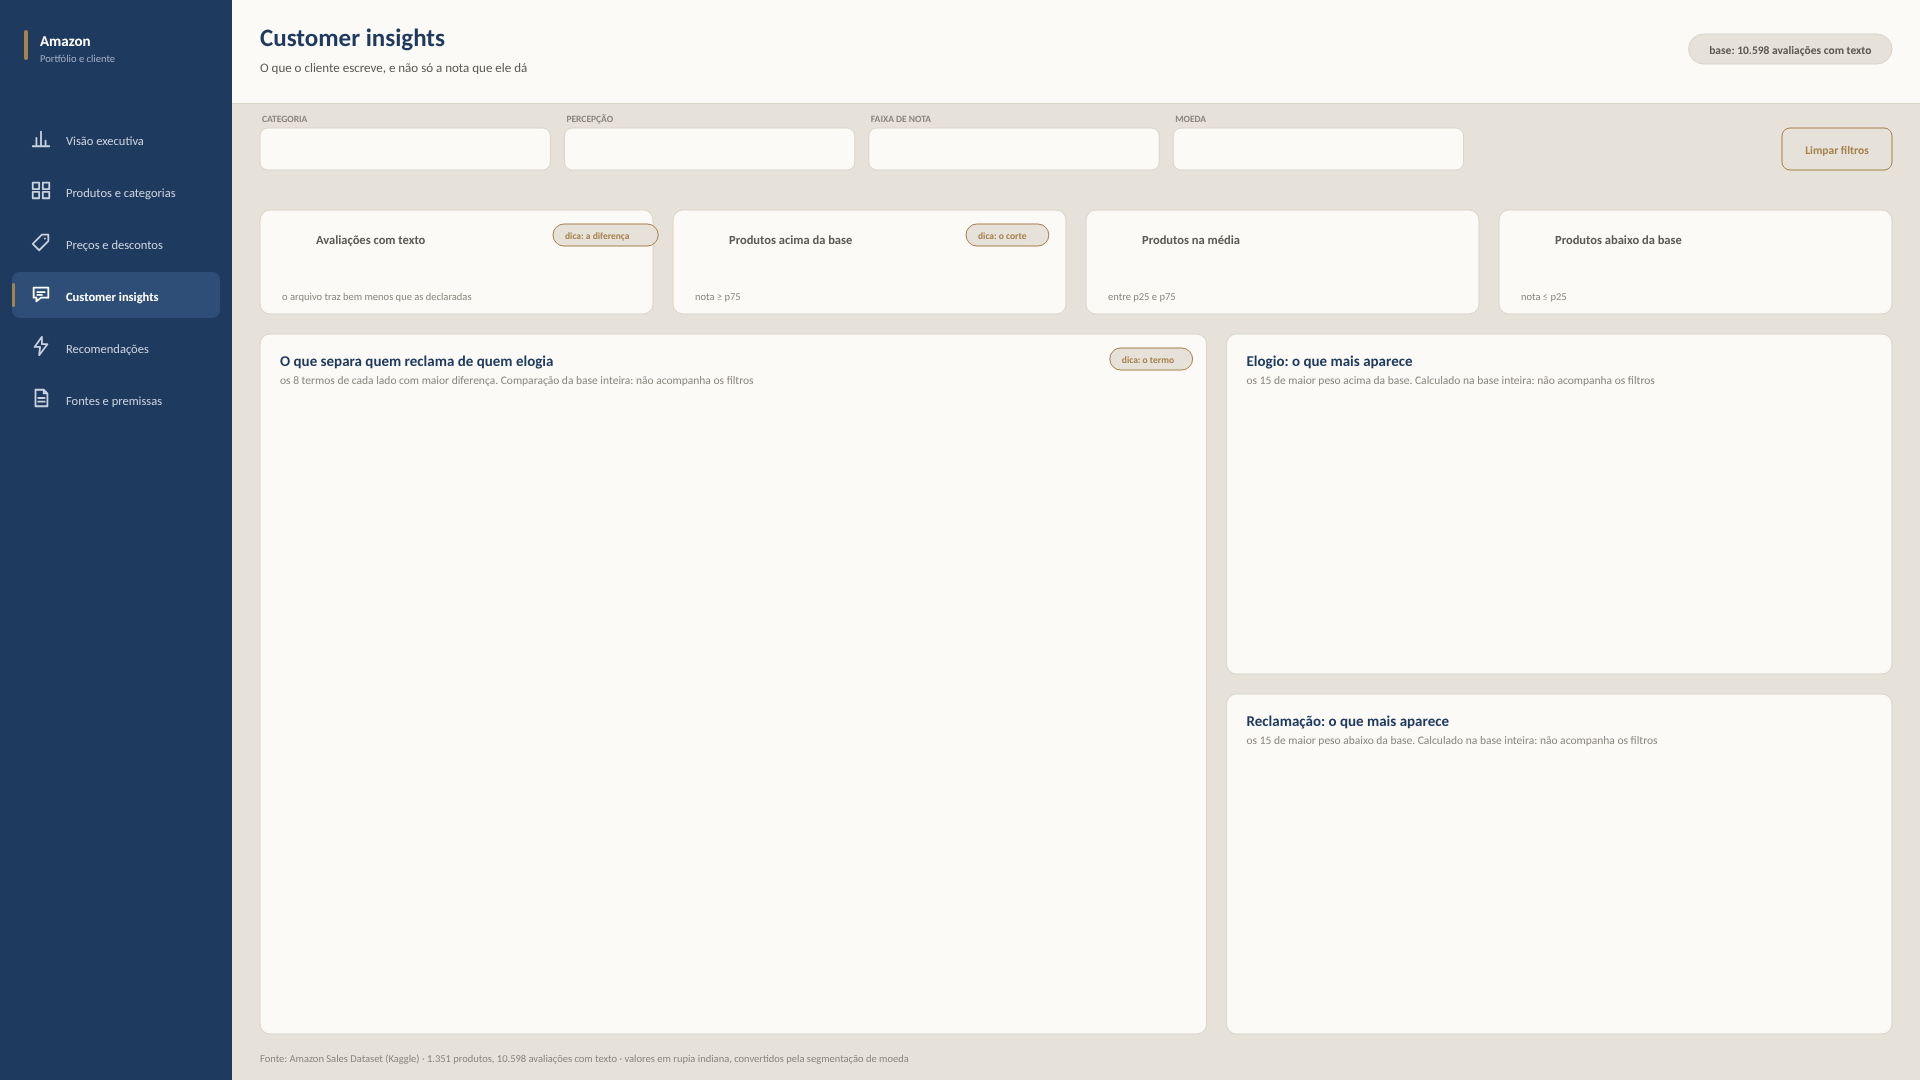

Layout of this report page (visuals, bound fields, positions):
{"tool":"powerbi","page":{"name":"Customer insights","canvas":[1920,1080],"ordinal":3},"visuals":[{"type":"slicer","fields":{"Values":["dCategoria.nivel_1"]},"box":[260,128,290.4,42],"z":0},{"type":"slicer","fields":{"Values":["fProdutos.percepcao"]},"box":[564.4,128,290.4,42],"z":1},{"type":"slicer","fields":{"Values":["fProdutos.faixa_nota"]},"box":[868.8,128,290.4,42],"z":2},{"type":"slicer","fields":{"Values":["dMoeda.moeda"]},"box":[1173.2,128,290.4,42],"z":3},{"type":"clusteredBarChart","fields":{"Category":["dTermoComparado.termo"],"Y":["_Medidas.% nos que reclamam","_Medidas.% nos que elogiam"]},"box":[276,400,914.6,618],"z":100},{"type":"clusteredBarChart","fields":{"Category":["dTermoComparado.termo"],"Y":["_Medidas.Peso do termo"]},"box":[1242.6,400,633.4,258],"z":101},{"type":"clusteredBarChart","fields":{"Category":["dTermoComparado.termo"],"Y":["_Medidas.Peso do termo"]},"box":[1242.6,760,633.4,258],"z":102},{"type":"actionButton","box":[1782,128,110,42],"z":900},{"type":"card","fields":{"Values":["_Medidas.Avaliações com texto"]},"box":[280,246,353,52],"z":11000},{"type":"card","fields":{"Values":["_Medidas.Produtos acima da base"]},"box":[693,246,353,52],"z":11001},{"type":"card","fields":{"Values":["_Medidas.Produtos na média"]},"box":[1106,246,353,52],"z":11002},{"type":"card","fields":{"Values":["_Medidas.Produtos abaixo da base"]},"box":[1519,246,353,52],"z":11003},{"type":"actionButton","box":[12,116,208,46],"z":20000},{"type":"actionButton","box":[12,168,208,46],"z":20001},{"type":"actionButton","box":[12,220,208,46],"z":20002},{"type":"actionButton","box":[12,324,208,46],"z":20004},{"type":"actionButton","box":[12,376,208,46],"z":20005}]}

Visuals, with their boxes on the page's 1920x1080 design canvas (x1, y1, x2, y2). These are canvas units, not pixel positions in the 1920x1080 screenshot, which may show the page scaled, cropped or inside an application window:
slicer - dCategoria.nivel_1: pyautogui.locateOnScreen(260, 128, 550, 170)
slicer - fProdutos.percepcao: pyautogui.locateOnScreen(564, 128, 855, 170)
slicer - fProdutos.faixa_nota: pyautogui.locateOnScreen(869, 128, 1159, 170)
slicer - dMoeda.moeda: pyautogui.locateOnScreen(1173, 128, 1464, 170)
clusteredBarChart - dTermoComparado.termo x _Medidas.% nos que reclamam: pyautogui.locateOnScreen(276, 400, 1191, 1018)
clusteredBarChart - dTermoComparado.termo x _Medidas.Peso do termo: pyautogui.locateOnScreen(1243, 400, 1876, 658)
clusteredBarChart - dTermoComparado.termo x _Medidas.Peso do termo: pyautogui.locateOnScreen(1243, 760, 1876, 1018)
actionButton: pyautogui.locateOnScreen(1782, 128, 1892, 170)
card - _Medidas.Avaliações com texto: pyautogui.locateOnScreen(280, 246, 633, 298)
card - _Medidas.Produtos acima da base: pyautogui.locateOnScreen(693, 246, 1046, 298)
card - _Medidas.Produtos na média: pyautogui.locateOnScreen(1106, 246, 1459, 298)
card - _Medidas.Produtos abaixo da base: pyautogui.locateOnScreen(1519, 246, 1872, 298)
actionButton: pyautogui.locateOnScreen(12, 116, 220, 162)
actionButton: pyautogui.locateOnScreen(12, 168, 220, 214)
actionButton: pyautogui.locateOnScreen(12, 220, 220, 266)
actionButton: pyautogui.locateOnScreen(12, 324, 220, 370)
actionButton: pyautogui.locateOnScreen(12, 376, 220, 422)
